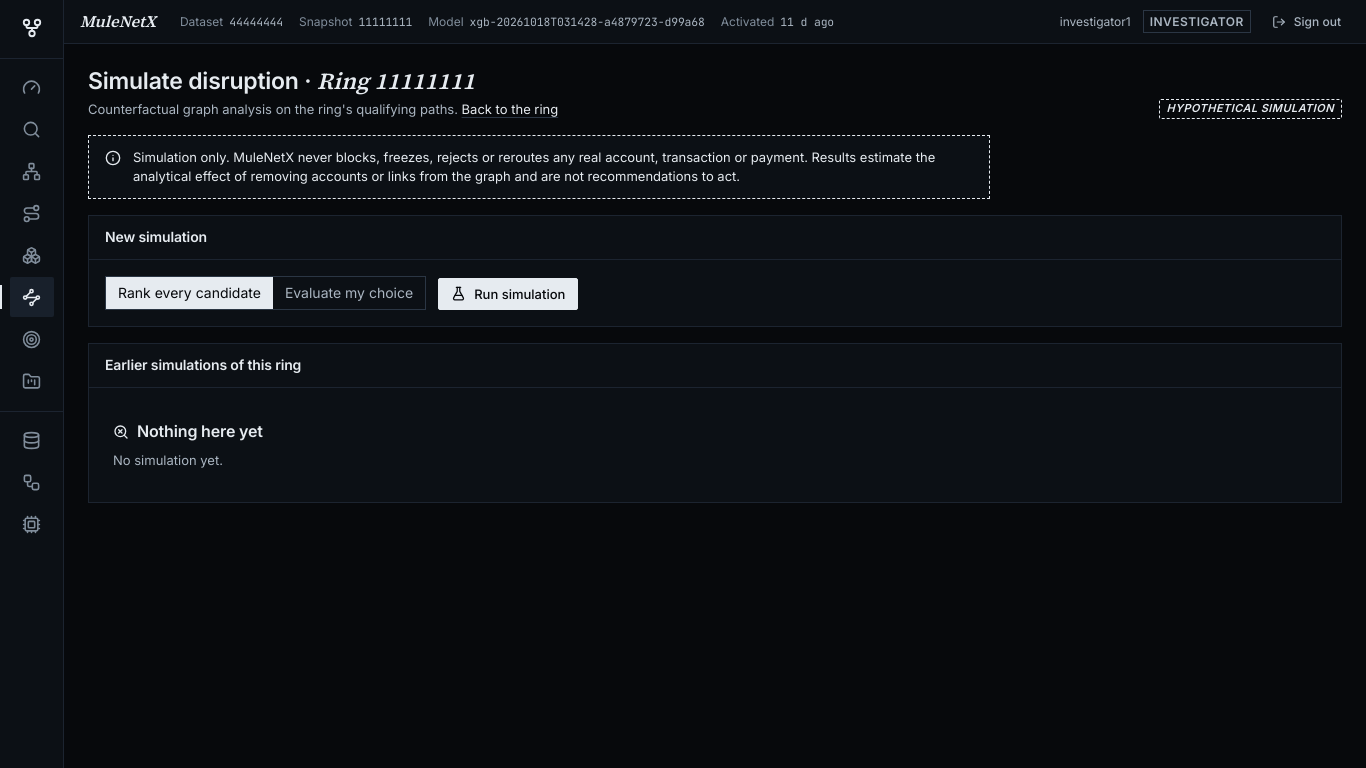
intervention simulation (T39) › labels every result hypothetical, offers no real action, and shows ranked candidates
expect the text "never blocks, freezes, rejects or reroutes" is shown: met, box [133,149,935,184]
What coordinates should you click on to do the following:
click the button "Run simulation"
I would click on:
 (508, 294)
Its box is [438,278,578,310].
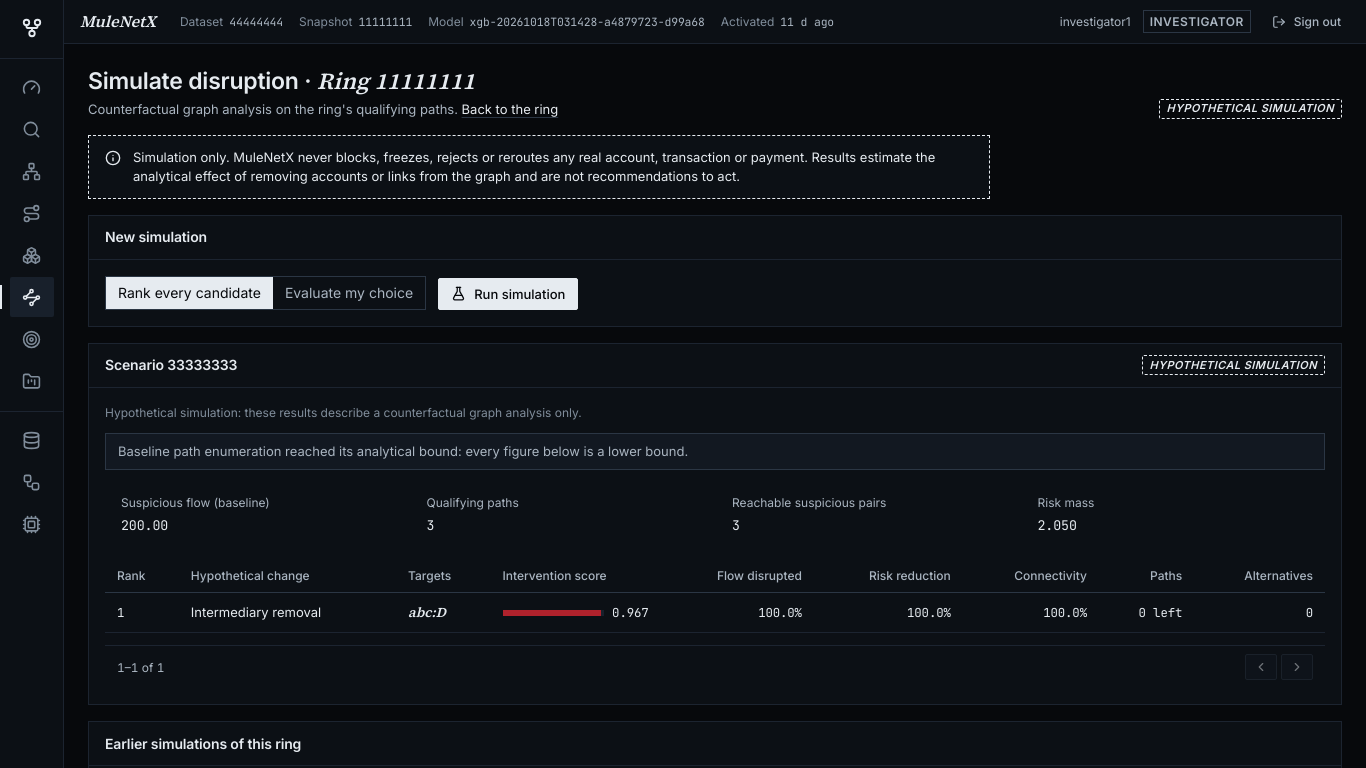
expect the text "HYPOTHETICAL SIMULATION" in the row of "33333333" is shown: met, box [1150,358,1317,372]
expect the text "every figure below is a lower bound" is shown: met, box [118,443,688,459]
expect the text "Intermediary removal" is shown: met, box [179,593,396,633]
